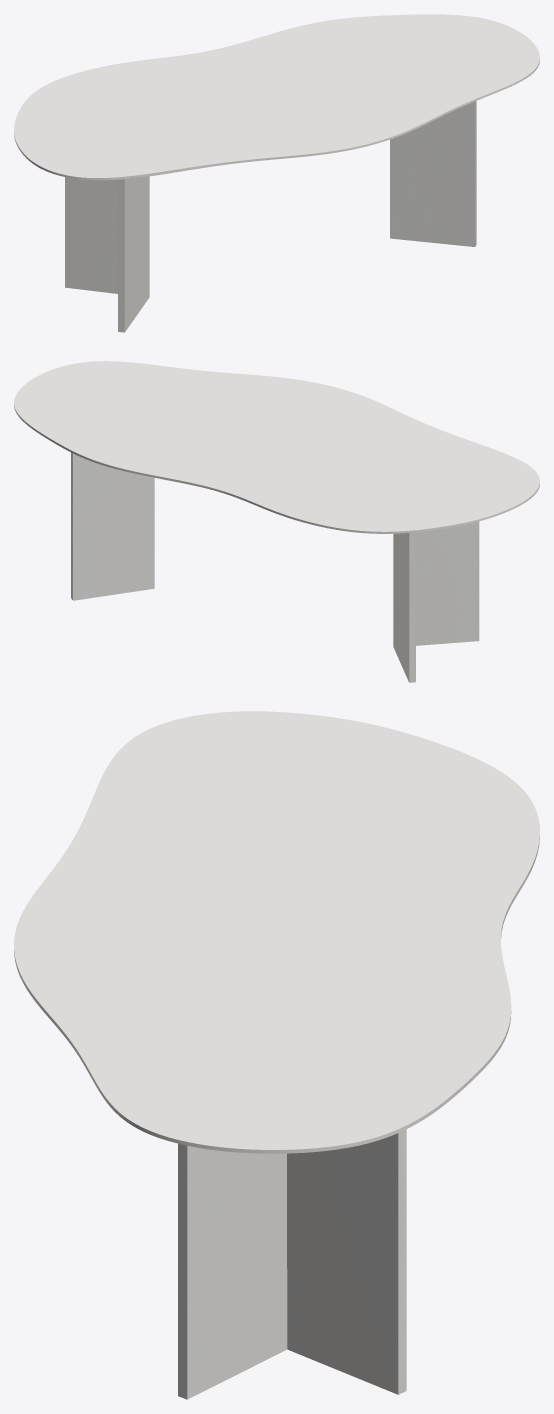
File: purewhite_toplast_facet_valleyv.glb
The picture shows the model from 3 angles, top to bottom: view 1: azimuth 30°, elevation 25°; view 2: azimuth 150°, elevation 25°; view 3: azimuth 270°, elevation 25°; orthographic projection. The views are drawn at different scales.
Visible parts, largest first — view 1: facet_toplast, valleyv; view 2: facet_toplast, valleyv; view 3: facet_toplast, valleyv.
Boxes of the visible parts, x1,y1,x2,y2 form: facet_toplast: (14,14,539,180); valleyv: (65,101,476,332); facet_toplast: (14,361,539,533); valleyv: (71,452,479,682); facet_toplast: (14,711,539,1153); valleyv: (178,1129,406,1399).
Bounding box in the file's own units: 7.5 × 2.5 × 3.8.
Materials: 1 (1 with a texture image).
